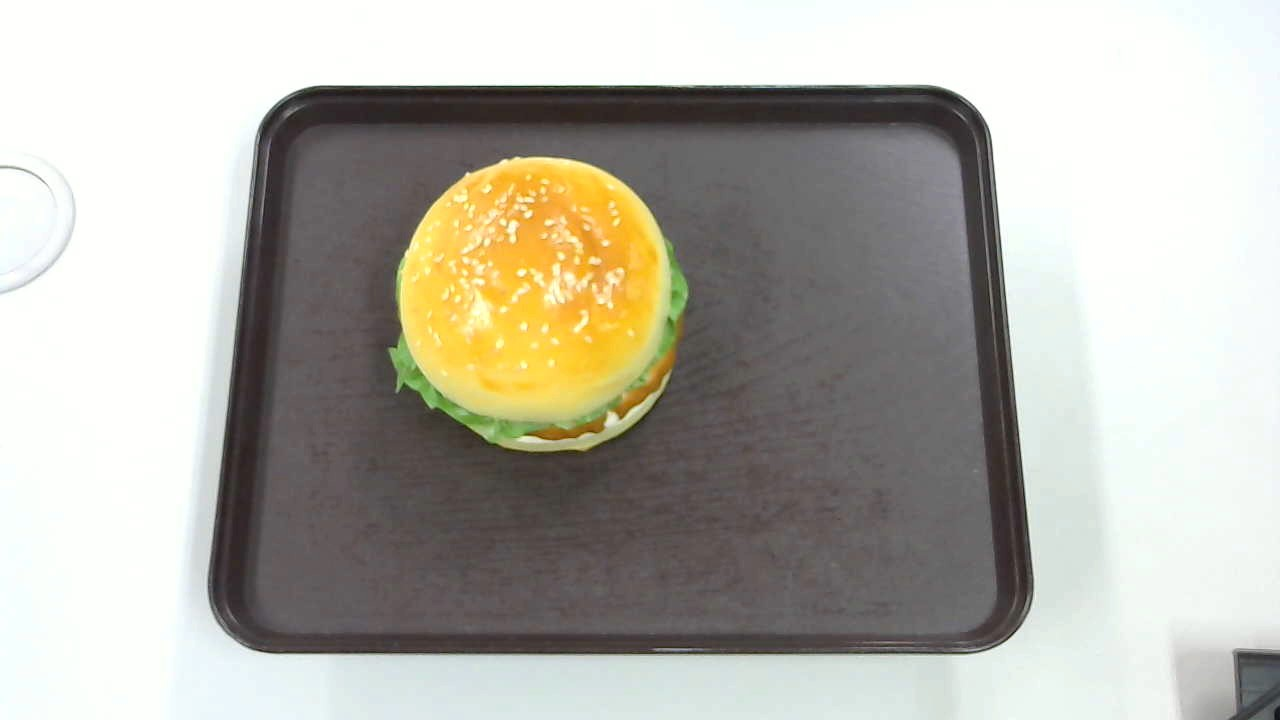hamburger: (388, 156, 688, 450)
